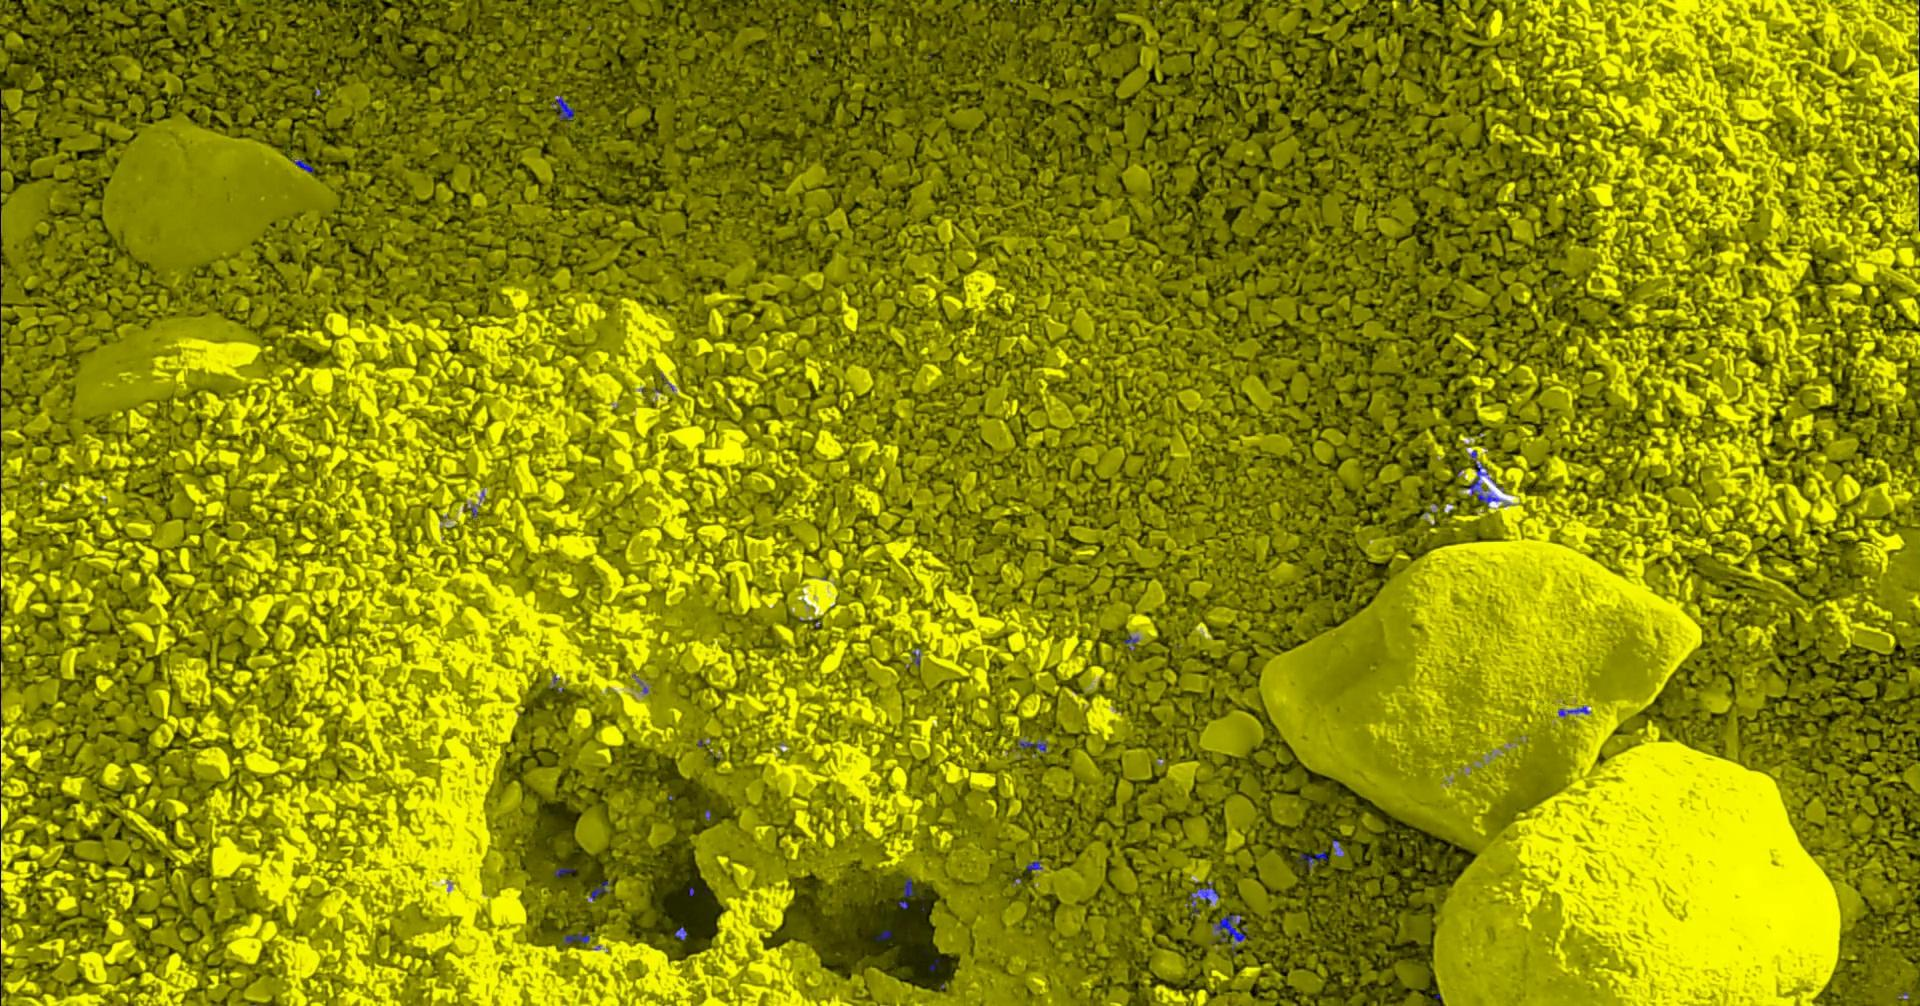ant: (1214, 913, 1253, 950), (1469, 462, 1503, 504), (1189, 883, 1220, 913), (900, 876, 921, 909), (552, 94, 577, 119), (1299, 848, 1330, 868), (592, 880, 612, 901), (1559, 705, 1591, 716), (1018, 739, 1048, 751), (293, 158, 316, 171), (564, 934, 596, 942), (676, 926, 690, 940), (555, 868, 575, 876), (1027, 860, 1044, 870)
